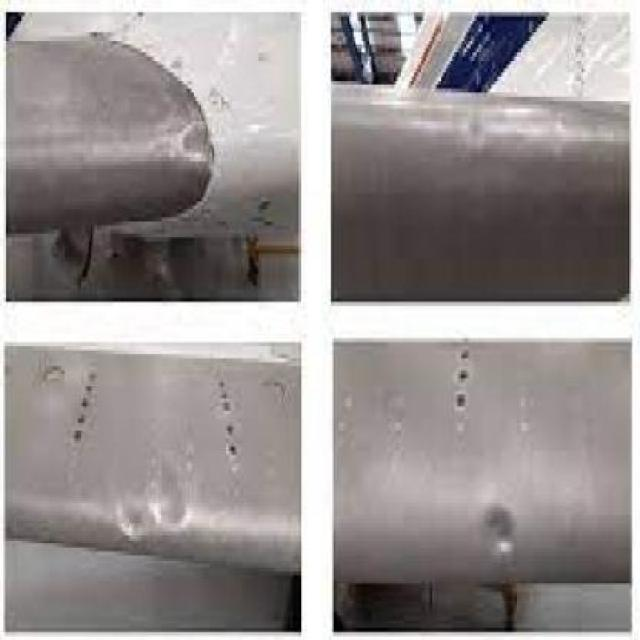dent: (116, 452, 191, 545), (465, 107, 548, 147), (171, 113, 215, 165), (483, 507, 516, 558)
